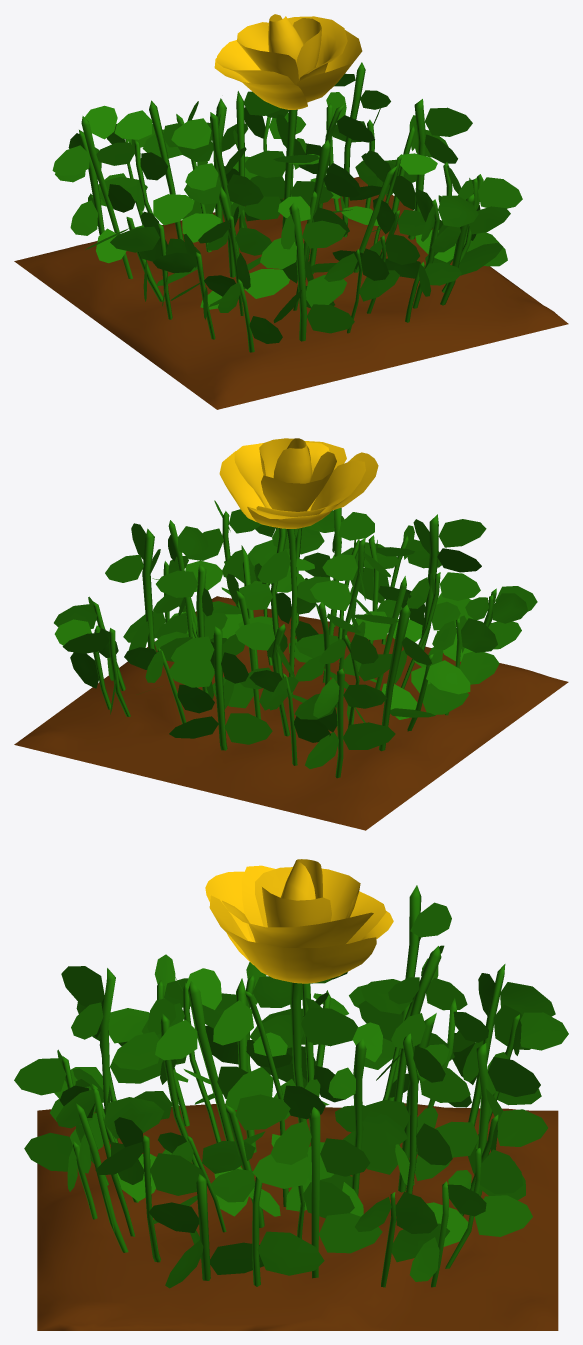
File: yellow-rose-p2-bloom.glb
3 views of the same model, one above another, from view 1: azimuth 30°, elevation 25°; view 2: azimuth 150°, elevation 25°; view 3: azimuth 270°, elevation 25° (orthographic). The views are drawn at different scales.
Parts seen in each view (by area): view 1: 2_nft_bloom; view 2: 2_nft_bloom; view 3: 2_nft_bloom.
Part boxes in pixels (x1,y1,x2,y2): 2_nft_bloom: (14,14,568,409); 2_nft_bloom: (14,438,568,830); 2_nft_bloom: (14,859,568,1330).
Size of the model in its own units: 0.751 by 0.5266 by 0.7455.
